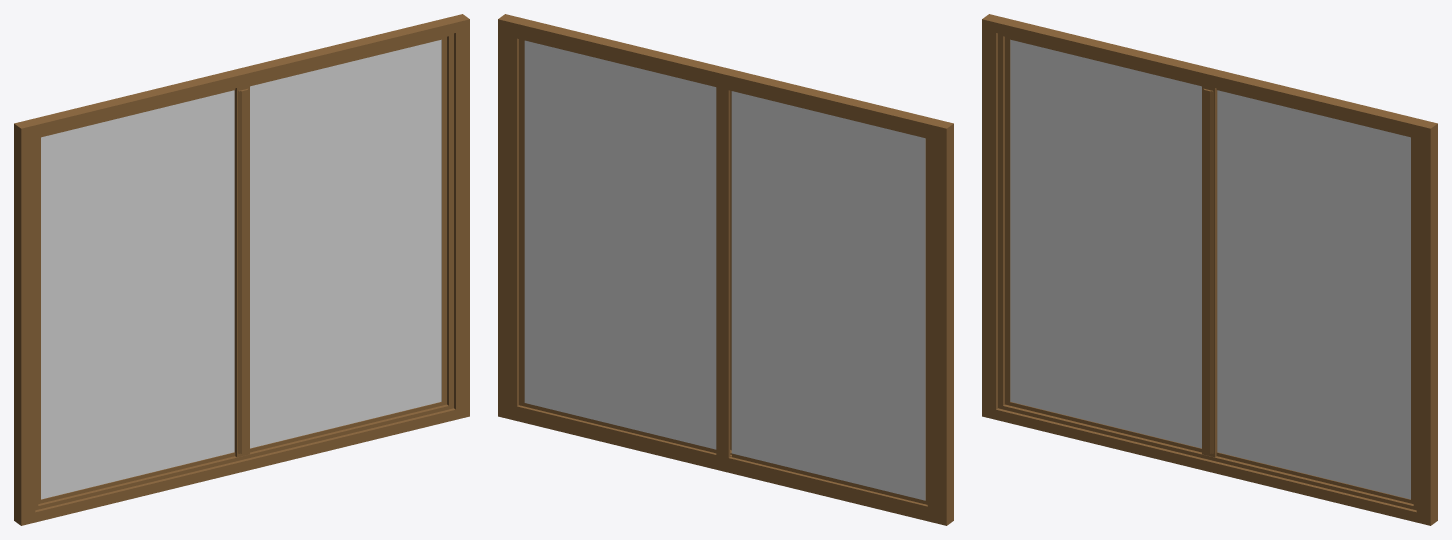
Rendered from window.fbx.
3 views of the same model, side by side, from view 1: azimuth 30°, elevation 25°; view 2: azimuth 150°, elevation 25°; view 3: azimuth 330°, elevation 25° (orthographic).
Visible parts, largest first — view 1: Window Frame; view 2: Window Frame; view 3: Window Frame.
Part boxes in pixels (x1=…): Window Frame: x1=14, y1=14, x2=469, y2=525; Window Frame: x1=498, y1=14, x2=953, y2=525; Window Frame: x1=982, y1=14, x2=1437, y2=525.
Size of the model in its own units: 405 by 342 by 11.21.
